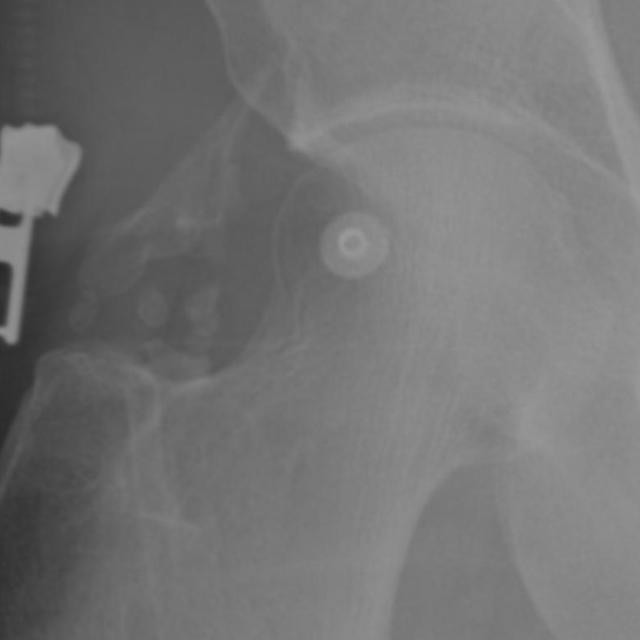Fitted_femural_head: (357, 129, 432, 357)
